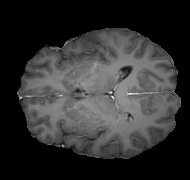Edema: (73, 105, 134, 136)
Necrosis: (93, 107, 113, 131)
